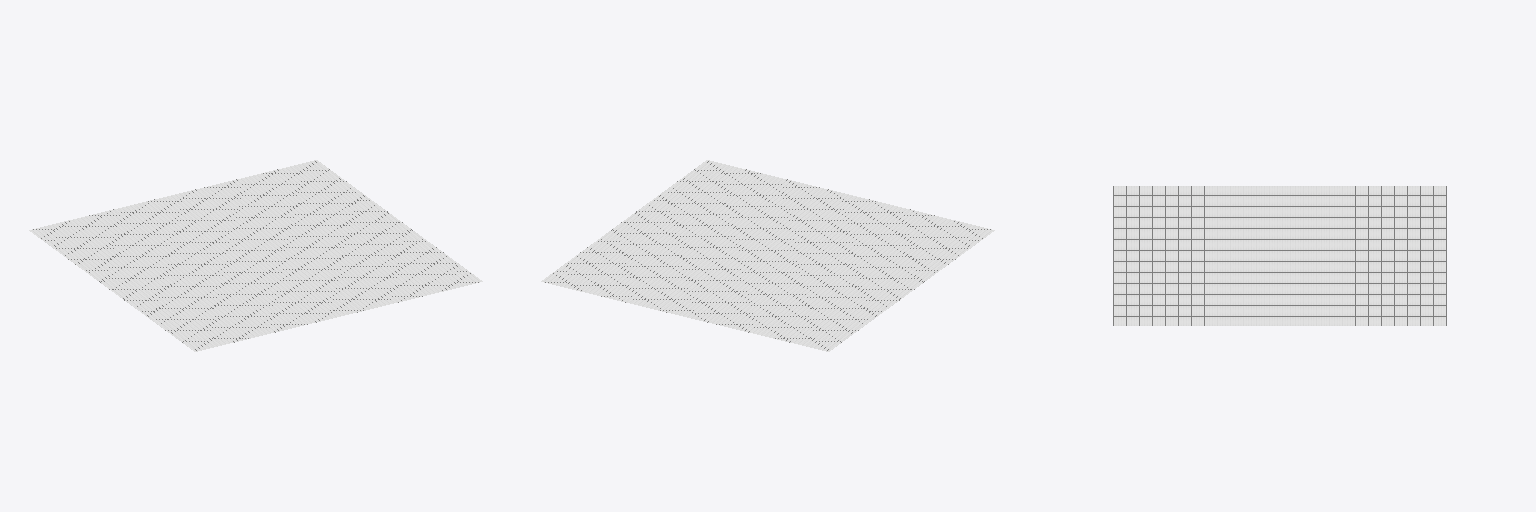
3 renders of one model, left to right at view 1: azimuth 30°, elevation 25°; view 2: azimuth 150°, elevation 25°; view 3: azimuth 270°, elevation 25°, orthographic.
Parts seen in each view (by area): view 1: Plane; view 2: Plane; view 3: Plane.
Boxes of the visible parts, <box> form: Plane: <box>29,160,482,351</box>; Plane: <box>541,160,994,351</box>; Plane: <box>1113,186,1446,325</box>.
Size of the model in its own units: 128 by 0 by 128.
1 materials, 1 textured.